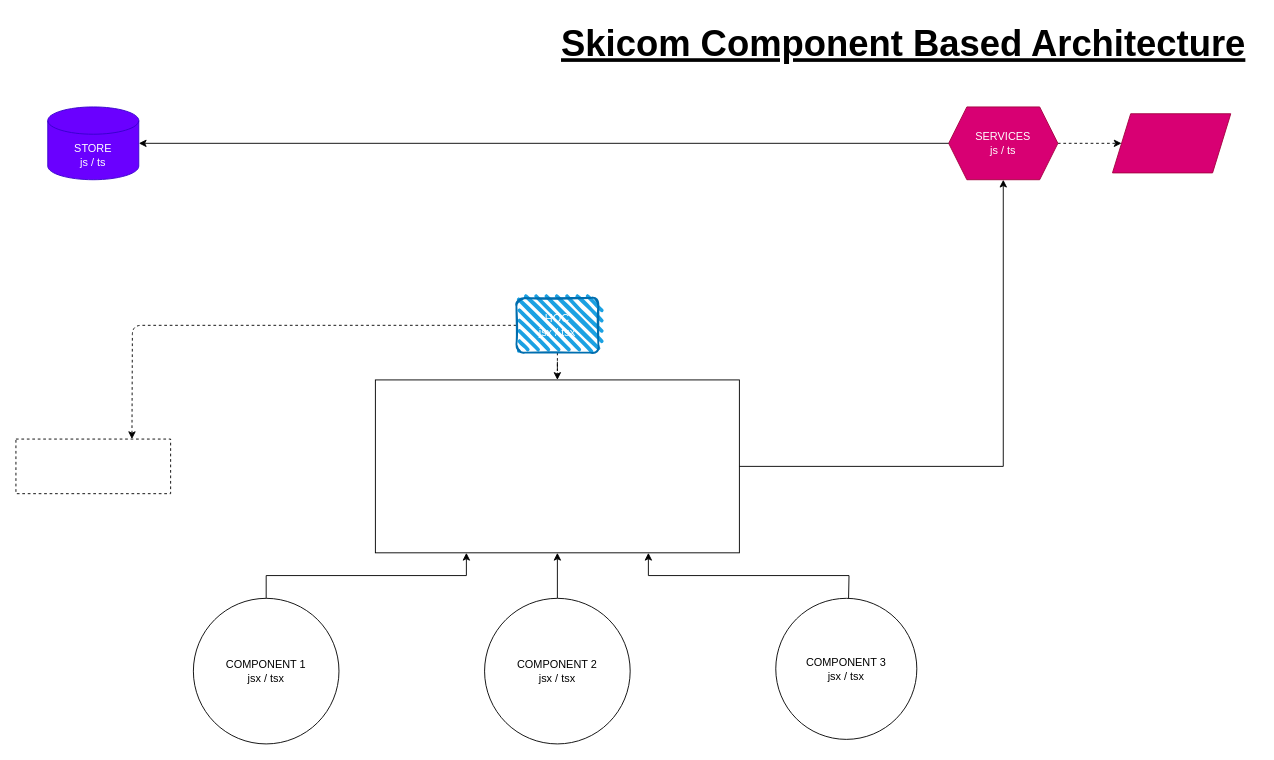
The diagram is 1274 pixels wide and 760 high, and some of its shapes have lost their labels. Each missing label, with the box of its shape:
ADAPTERS js / ts: (1112, 113, 1231, 173)
CONTAINER / VIEWS js / ts / jsx / tsx: (374, 379, 739, 553)
MORE CONTAINERS: (15, 438, 171, 494)
